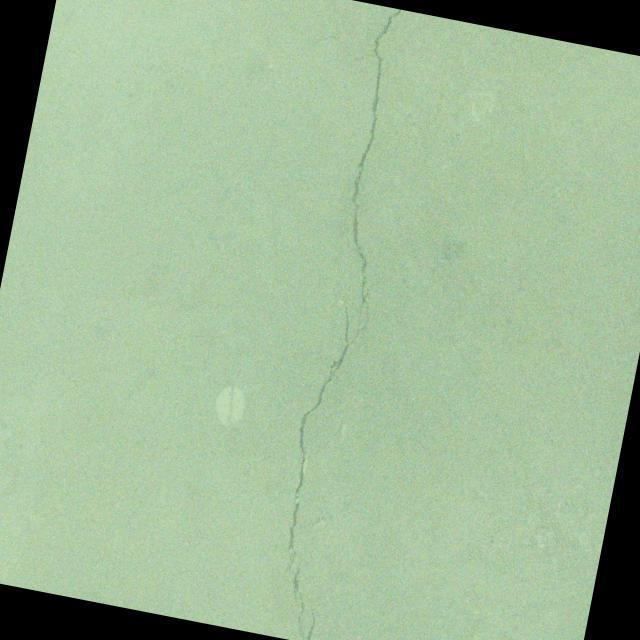crack: (205, 0, 434, 640)
